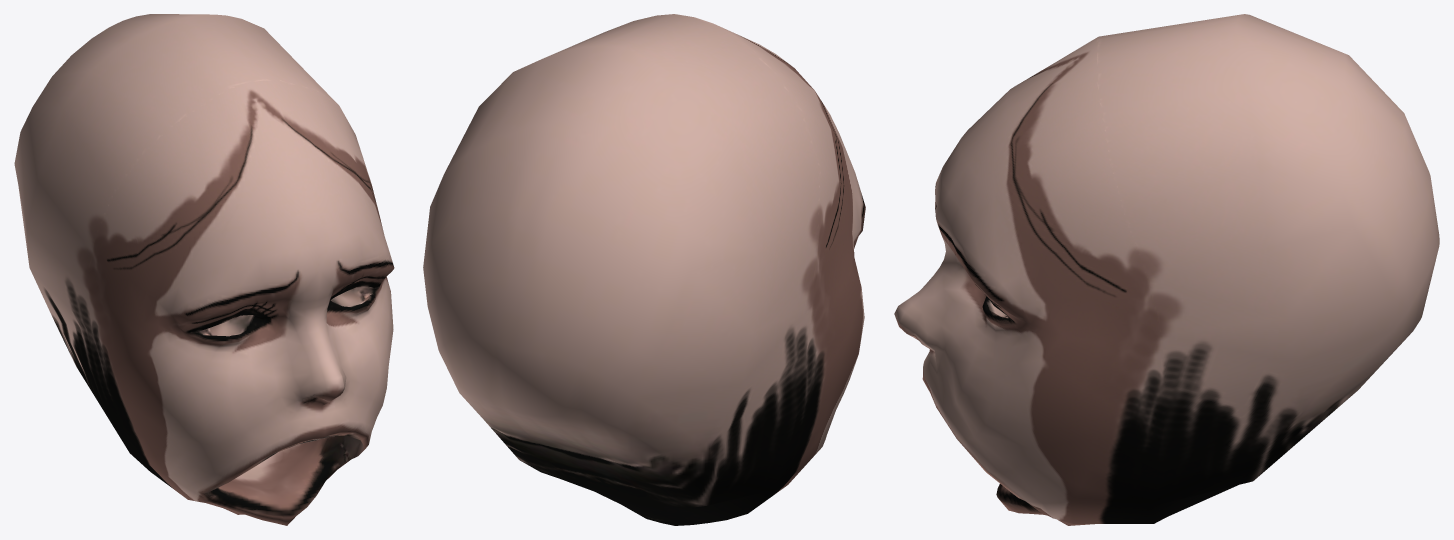
The model's file is Head.fbx.
3 renders of one model, left to right at view 1: azimuth 30°, elevation 25°; view 2: azimuth 150°, elevation 25°; view 3: azimuth 270°, elevation 25°, orthographic. The views are drawn at different scales.
Visible parts, largest first — view 1: Head_00; view 2: Head_00; view 3: Head_00.
Part boxes in pixels (box(x1,y1,x2,y2)): Head_00: box(14, 14, 394, 525); Head_00: box(423, 14, 865, 525); Head_00: box(894, 14, 1439, 525).
Bounding box in the file's own units: 0.1759 × 0.2723 × 0.2741.
